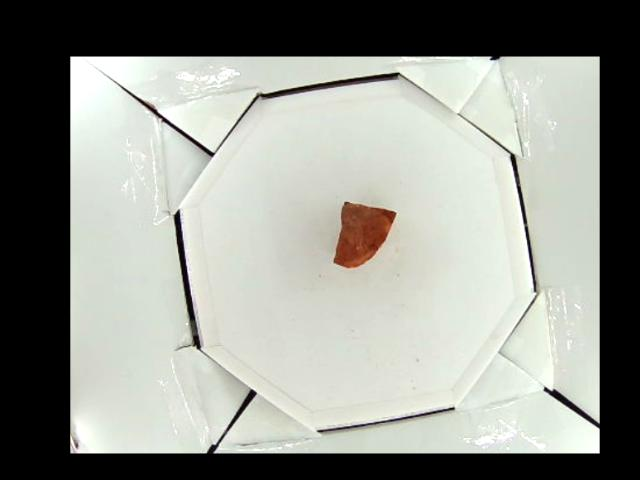Brisk: (333, 200, 398, 267)
